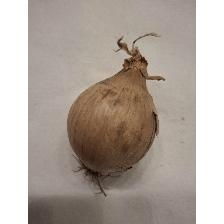Zwiebel: (66, 31, 168, 199)
